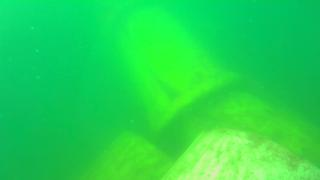pipe: (113, 5, 241, 133), (170, 90, 320, 168), (158, 125, 320, 180), (72, 129, 177, 180)
